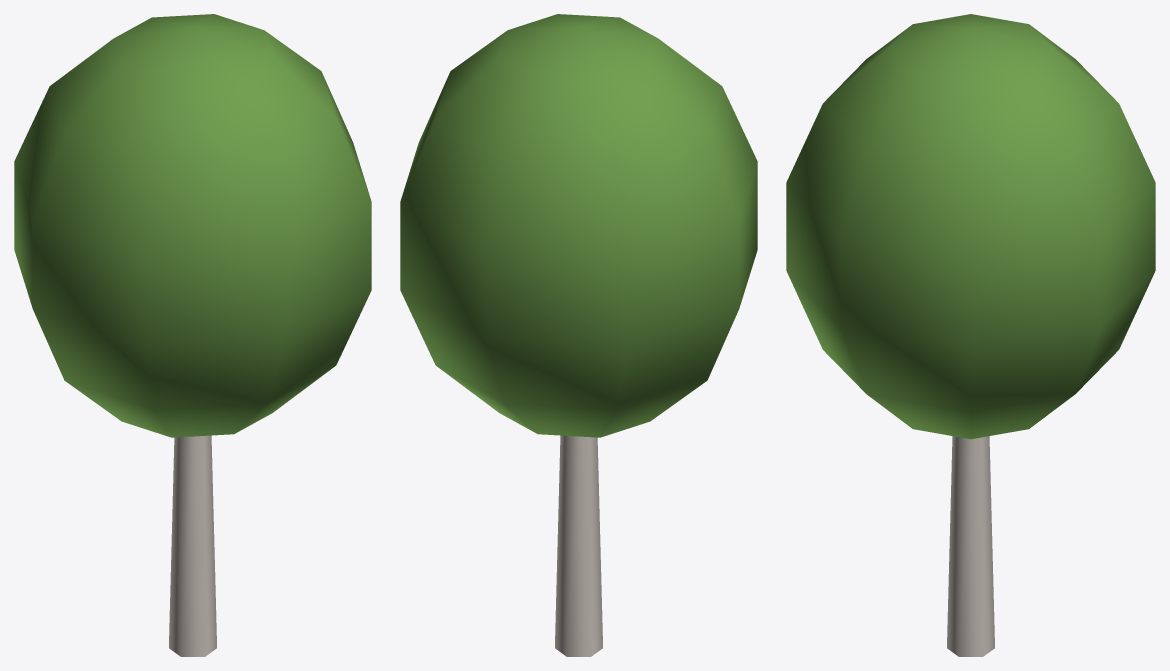
Rendered from birch.glb.
3 renders of one model, left to right at view 1: azimuth 30°, elevation 25°; view 2: azimuth 150°, elevation 25°; view 3: azimuth 270°, elevation 25°, orthographic.
Size of the model in its own units: 4.6 by 8.5 by 4.6.
